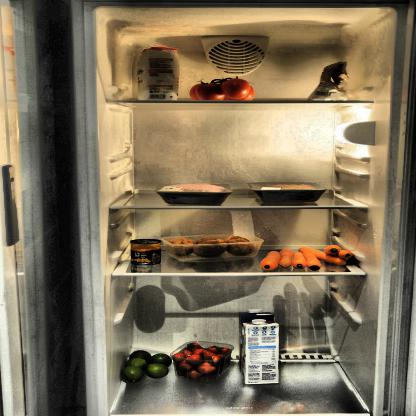beef: (247, 182, 325, 202)
carrot: (259, 244, 357, 272)
corn: (128, 237, 163, 269)
ground_beef: (156, 182, 229, 208)
lime: (121, 347, 169, 384)
milk: (236, 308, 275, 379), (240, 317, 278, 385)
potato: (161, 228, 262, 268)
strawberries: (172, 343, 232, 380)
tomato: (187, 76, 257, 102)
